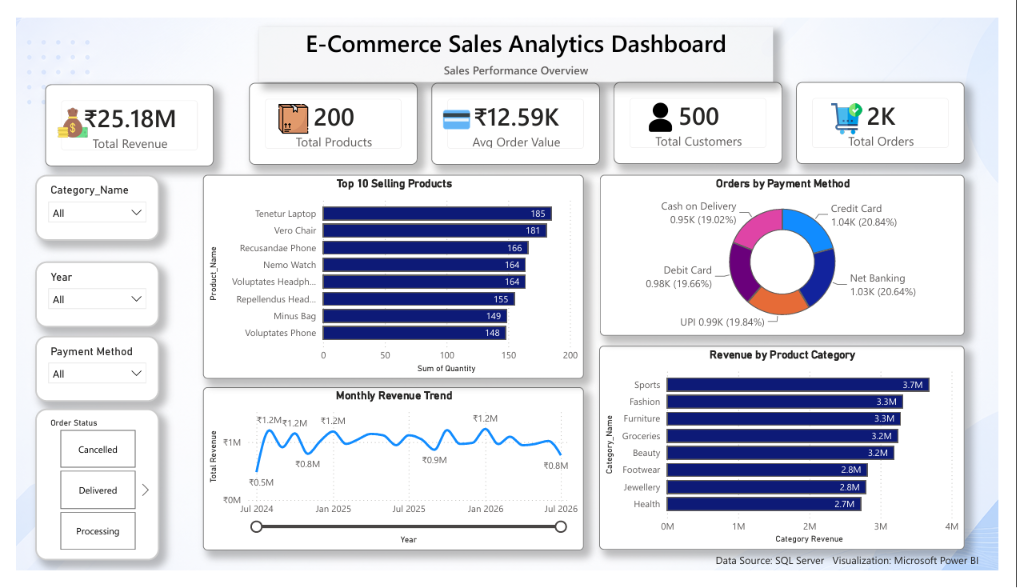

The dashboard page shown, as its layout file describes it:
{"tool":"powerbi","page":{"name":"Sales Overview","canvas":[1280,720],"ordinal":0},"visuals":[{"type":"cardVisual","fields":{"Data":["Orders.Total Revenue"]},"box":[37.1,85.7,220,107.1],"z":0},{"type":"cardVisual","fields":{"Data":["Orders.Total Orders"]},"box":[1017.1,82.9,220,107.1],"z":1000},{"type":"cardVisual","fields":{"Data":["Products.Total Products"]},"box":[302.9,84.3,220,107.1],"z":2000},{"type":"cardVisual","fields":{"Data":["Customers.Total Customers"]},"box":[778.6,82.9,220,107.1],"z":3000},{"type":"cardVisual","fields":{"Data":["Orders.Avg Order Value"]},"box":[541.4,84.3,220,107.1],"z":4000},{"type":"lineChart","title":"Monthly Revenue Trend","fields":{"Y":["Orders.Total Revenue"],"Category":["Orders.Order_Date.Variation.Date Hierarchy.Year","Orders.Order_Date.Variation.Date Hierarchy.Month"]},"box":[242.9,481.4,497.1,212.9],"z":5000},{"type":"clusteredBarChart","title":"Revenue by Product Category","fields":{"Y":["Orders.Category Revenue"],"Category":["Categories.Category_Name"]},"box":[760,426.7,476.7,266.7],"z":6000},{"type":"donutChart","title":"Orders by Payment Method","fields":{"Category":["Orders.Payment_Method"],"Y":["CountNonNull(OrderDetails.Order_ID)"]},"box":[761.4,204.3,475.7,210],"z":7000},{"type":"clusteredBarChart","title":"Top 10 Selling Products","fields":{"Category":["Products.Product_Name"],"Y":["Sum(OrderDetails.Quantity)"]},"box":[242.9,204.3,497.1,265.7],"z":8000},{"type":"slicer","fields":{"Values":["Orders.Order_Date.Variation.Date Hierarchy.Year"]},"box":[24.3,317.1,161.4,85.7],"z":9000},{"type":"slicer","fields":{"Values":["Categories.Category_Name"]},"box":[24.3,204.3,161.4,85.7],"z":10000},{"type":"slicer","fields":{"Values":["Orders.Payment_Method"]},"box":[24.3,414.3,161.4,85.7],"z":11000},{"type":"slicer","fields":{"Values":["Orders.Order_Status"]},"box":[24.3,508.6,161.4,198.6],"z":12000},{"type":"image","box":[52.9,111.4,40,50],"z":13000},{"type":"image","box":[341.4,105.7,40,50],"z":14000},{"type":"image","box":[820,104.3,40,50],"z":15000},{"type":"image","box":[1062.9,105.7,40,50],"z":16000},{"type":"image","box":[554.3,104.3,40,55.7],"z":17000},{"type":"textbox","box":[906.7,693.3,373.3,26.7],"z":18000},{"type":"textbox","title":"E-Commerce Sales Analytics Dashboard","box":[315.7,11.4,671.4,71.4],"z":20000}]}

Visuals, with their boxes in screenshot pixels (x1, y1, x2, y2), scaled from the page's 1280x720 canvas onto the 1017x588 screenshot:
cardVisual - Orders.Total Revenue: bbox=[29, 70, 204, 157]
cardVisual - Orders.Total Orders: bbox=[808, 68, 983, 155]
cardVisual - Products.Total Products: bbox=[241, 69, 415, 156]
cardVisual - Customers.Total Customers: bbox=[619, 68, 793, 155]
cardVisual - Orders.Avg Order Value: bbox=[430, 69, 605, 156]
"Monthly Revenue Trend" lineChart: bbox=[193, 393, 588, 567]
"Revenue by Product Category" clusteredBarChart: bbox=[604, 348, 983, 566]
"Orders by Payment Method" donutChart: bbox=[605, 167, 983, 338]
"Top 10 Selling Products" clusteredBarChart: bbox=[193, 167, 588, 384]
slicer - Orders.Order_Date.Variation.Date Hierarchy.Year: bbox=[19, 259, 148, 329]
slicer - Categories.Category_Name: bbox=[19, 167, 148, 237]
slicer - Orders.Payment_Method: bbox=[19, 338, 148, 408]
slicer - Orders.Order_Status: bbox=[19, 415, 148, 578]
image: bbox=[42, 91, 74, 132]
image: bbox=[271, 86, 303, 127]
image: bbox=[652, 85, 683, 126]
image: bbox=[845, 86, 876, 127]
image: bbox=[440, 85, 472, 131]
textbox: bbox=[720, 566, 1016, 587]
"E-Commerce Sales Analytics Dashboard" textbox: bbox=[251, 9, 784, 68]
